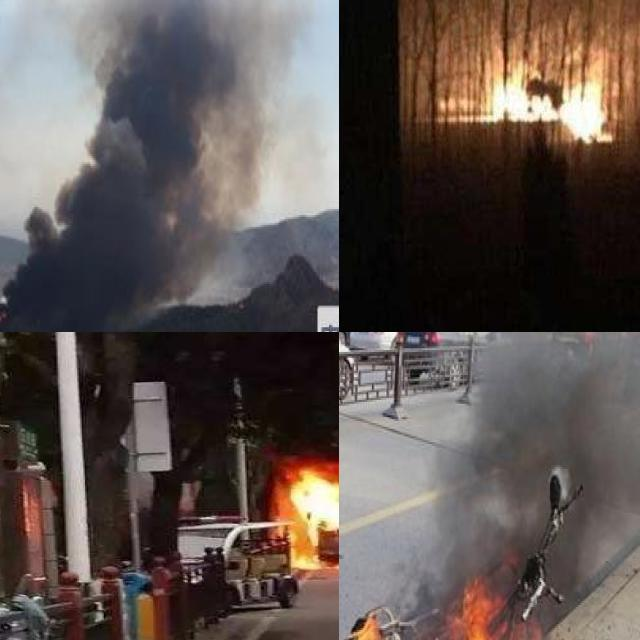fire: (339, 535, 551, 640), (493, 68, 614, 143), (286, 456, 339, 569)
smoke: (0, 0, 313, 323), (429, 332, 640, 584)
